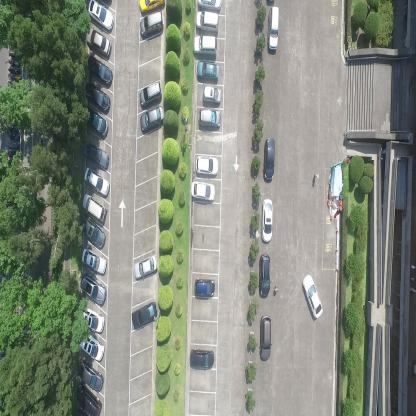car: (302, 272, 324, 322), (77, 330, 106, 364), (86, 51, 113, 87), (84, 79, 110, 116), (76, 357, 104, 391), (79, 214, 106, 249), (80, 270, 107, 304), (82, 104, 108, 139), (79, 245, 108, 276), (88, 0, 115, 32), (75, 383, 102, 415), (81, 192, 107, 224), (80, 304, 106, 335), (131, 301, 158, 330), (82, 167, 109, 196), (139, 11, 165, 41), (85, 27, 111, 57), (133, 251, 158, 282), (83, 140, 108, 170), (139, 105, 163, 135), (138, 81, 162, 109), (193, 32, 217, 58), (263, 135, 276, 182), (267, 6, 280, 52), (259, 314, 271, 362), (189, 348, 215, 370), (261, 197, 273, 244), (259, 253, 271, 297), (191, 179, 215, 201), (138, 0, 166, 18), (196, 154, 218, 176), (194, 275, 214, 298), (198, 110, 223, 128), (197, 61, 219, 81), (195, 12, 219, 30), (202, 85, 221, 107), (197, 0, 221, 14)
